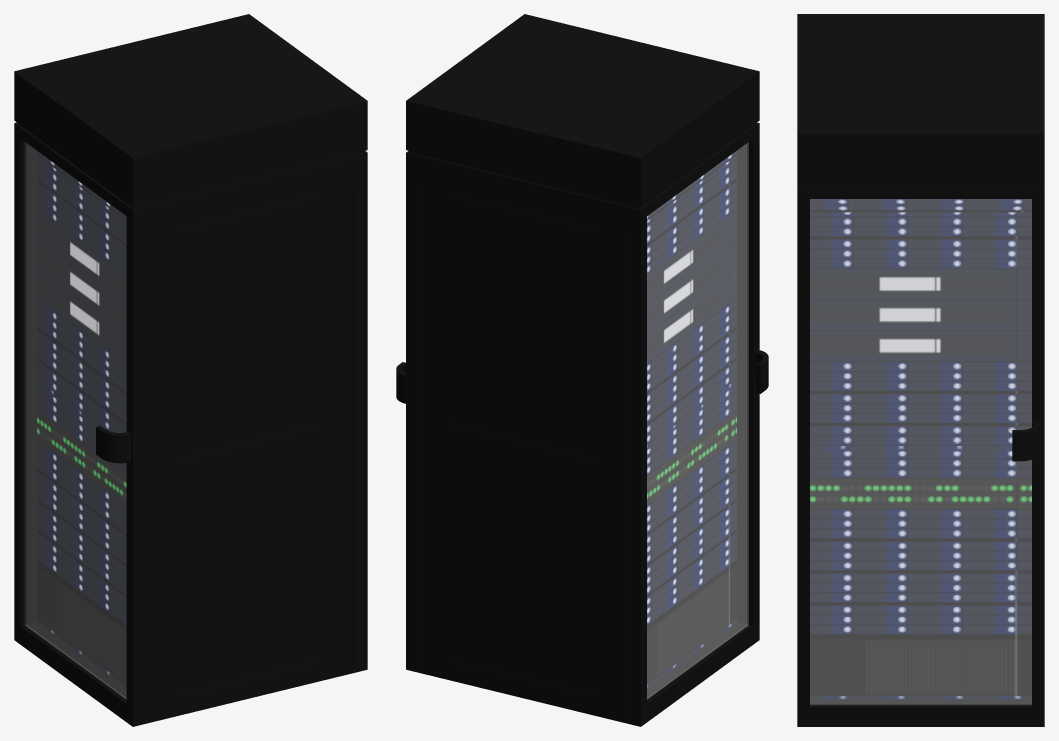
The model's file is data_center_rack.glb.
The picture shows the model from 3 angles, left to right: view 1: azimuth 30°, elevation 25°; view 2: azimuth 150°, elevation 25°; view 3: azimuth 270°, elevation 25°; orthographic projection. The views are drawn at different scales.
Parts seen in each view (by area): view 1: Object_2, Object_4, Object_3, Object_5; view 2: Object_2, Object_4, Object_3, Object_5; view 3: Object_4, Object_3, Object_2, Object_5.
Part boxes in pixels (x1,y1,x2,y2): Object_2: [14, 14, 367, 726]; Object_4: [25, 142, 126, 698]; Object_3: [37, 151, 126, 687]; Object_5: [96, 426, 131, 463]; Object_2: [406, 14, 759, 726]; Object_4: [647, 142, 748, 698]; Object_3: [647, 151, 736, 687]; Object_5: [396, 350, 768, 403]; Object_4: [810, 199, 1031, 704]; Object_3: [810, 199, 1031, 699]; Object_2: [797, 14, 1044, 726]; Object_5: [1012, 422, 1040, 461].
Size of the model in its own units: 1.16 by 2.31 by 0.875.
Materials: 3 (1 with a texture image).
